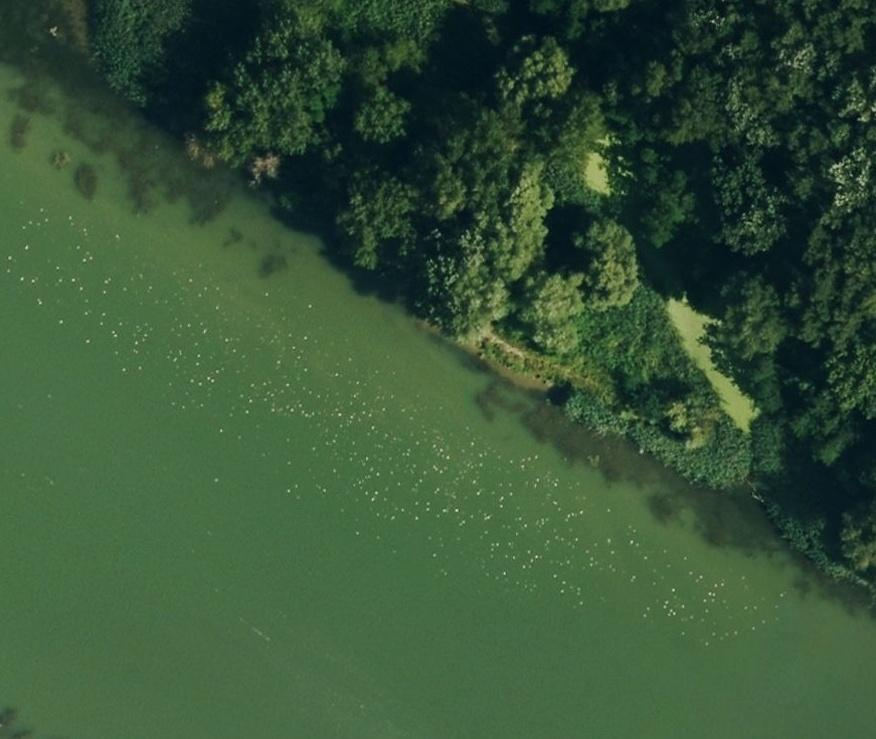lake: (0, 4, 876, 737)
